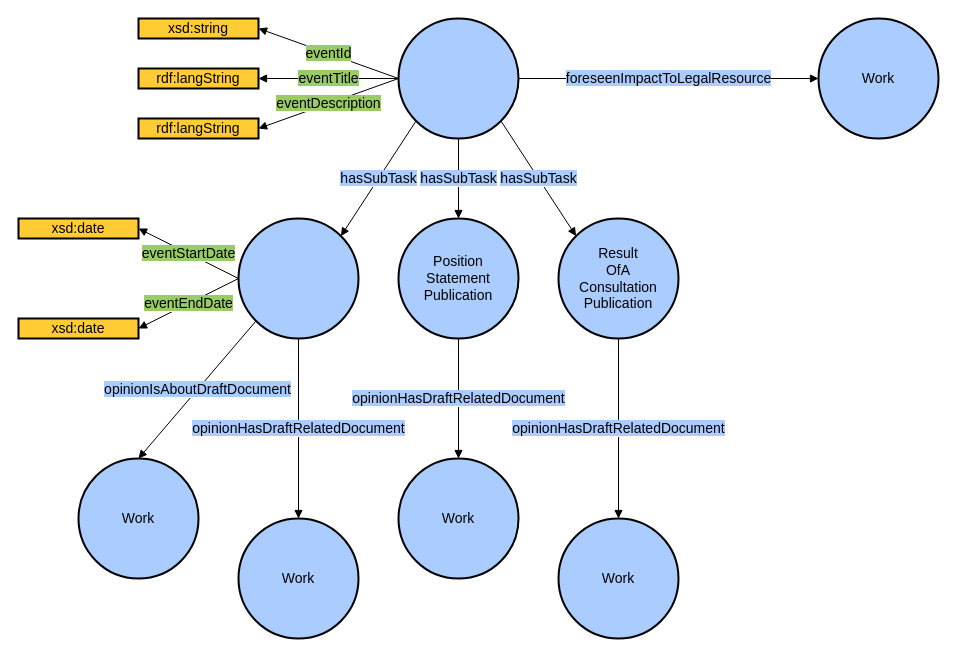
Some shapes in this 956 by 656 pixel diagram are drawn without their labels. Here are the shapes that lost their labels. From the top down, the centre of each, then its label:
At [458,78]: "Consultation".
At [298,278]: "Consultation Phase".
